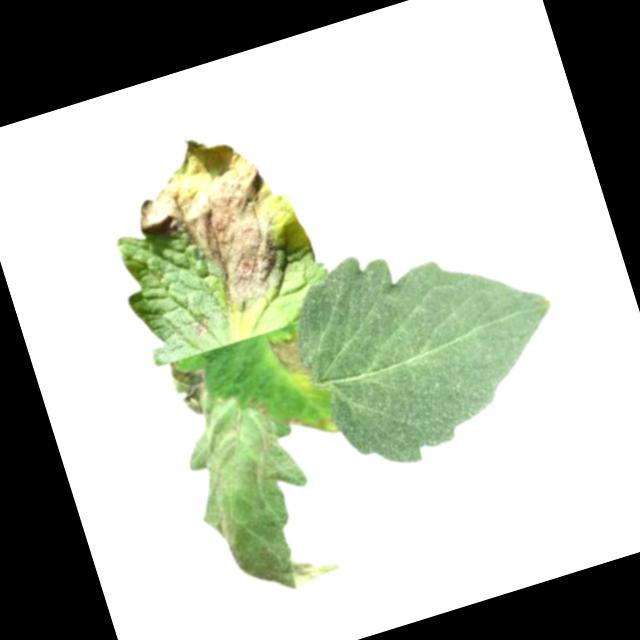Late_blight: (145, 373, 343, 618), (117, 109, 323, 330), (161, 355, 216, 421), (268, 332, 314, 386), (188, 314, 211, 339)
healthy: (277, 204, 586, 487)
